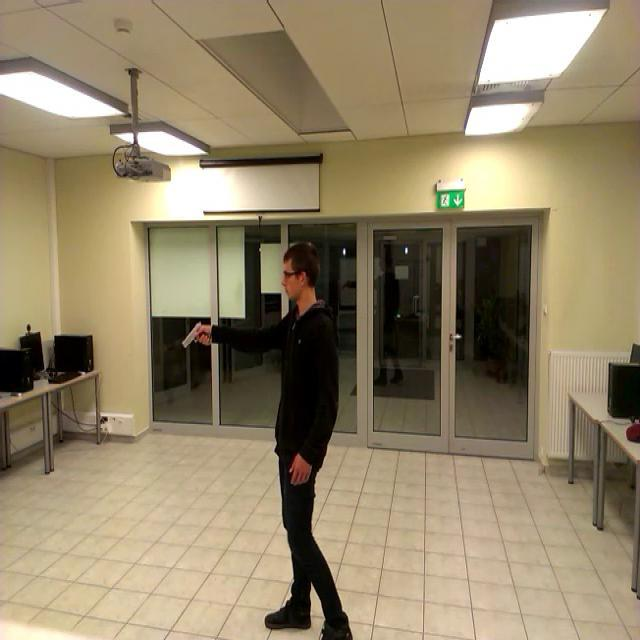Gun: (181, 320, 209, 347)
